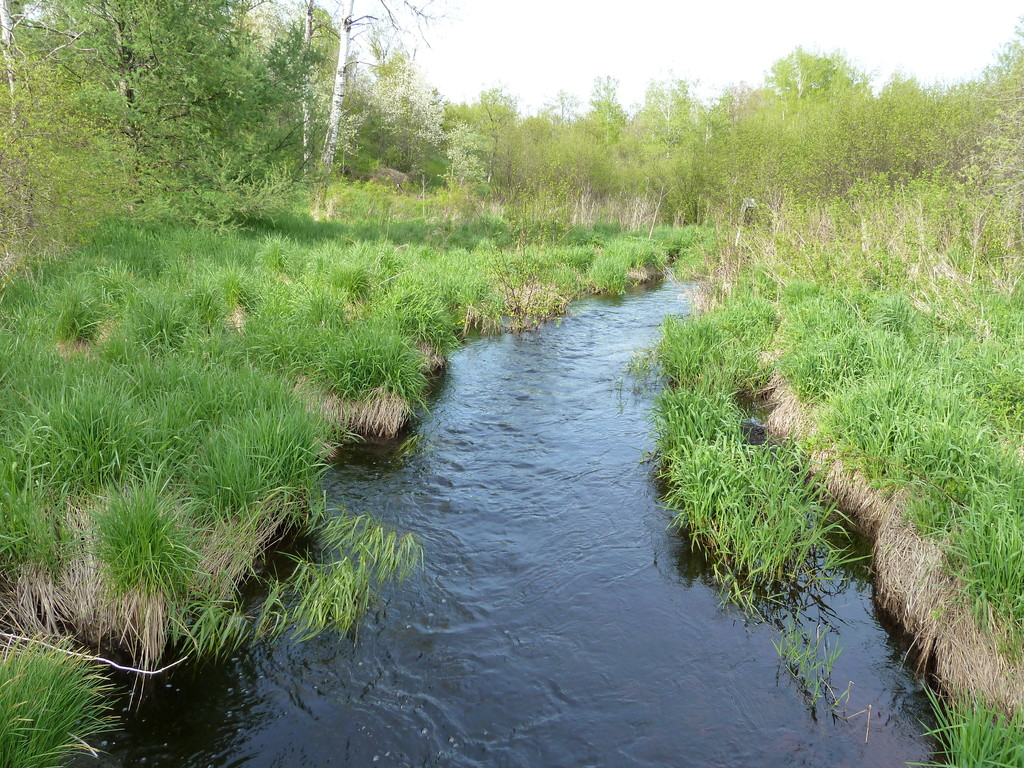Tree: (467, 0, 1023, 211), (65, 0, 210, 199), (298, 0, 464, 172), (0, 0, 94, 224), (211, 0, 284, 217), (267, 0, 348, 160)
